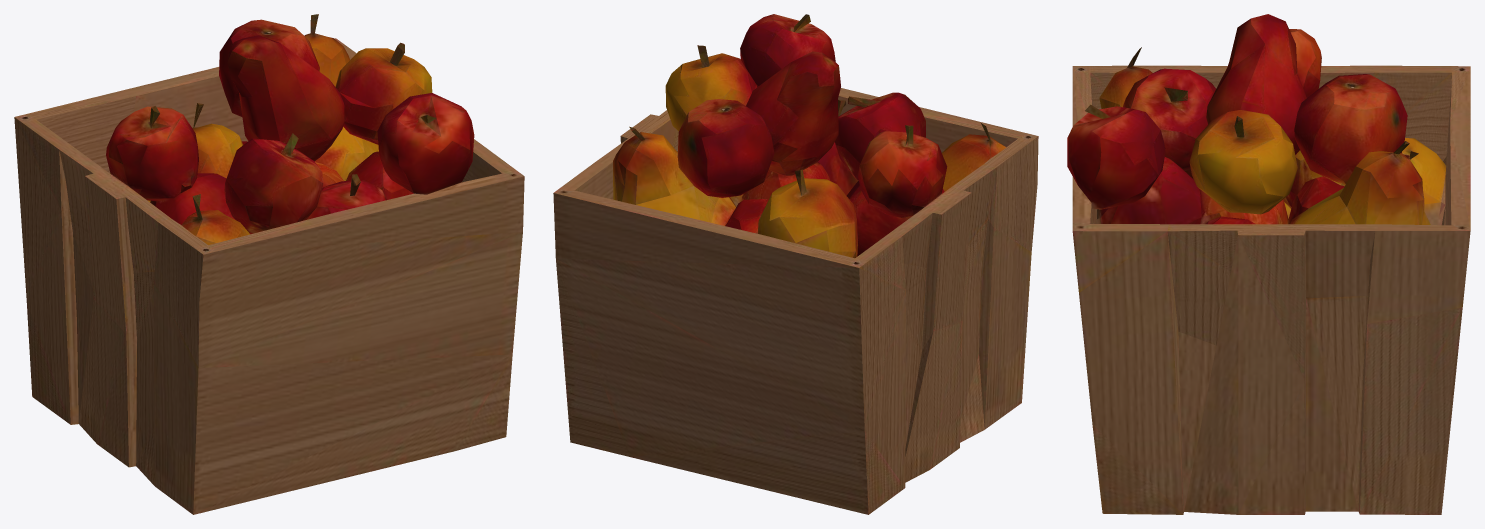
The model's file is crate-goods.glb.
The picture shows the model from 3 angles, left to right: view 1: azimuth 30°, elevation 25°; view 2: azimuth 150°, elevation 25°; view 3: azimuth 270°, elevation 25°; orthographic projection. The views are drawn at different scales.
Bounding box in the file's own units: 0.4559 × 0.5 × 0.4468.
Materials: 1 (1 with a texture image).
